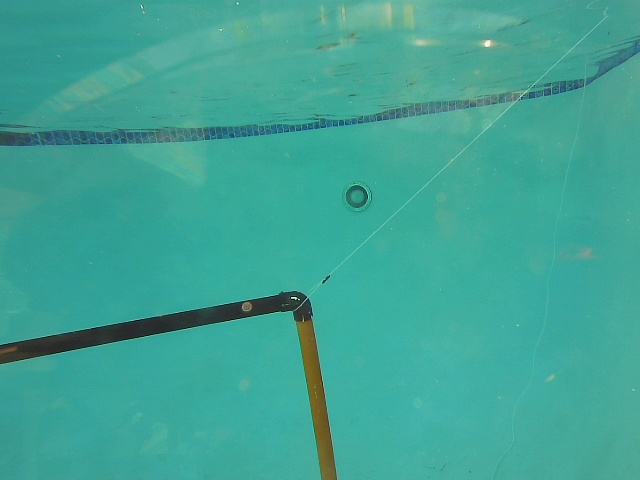Gate: (1, 274, 343, 475)
